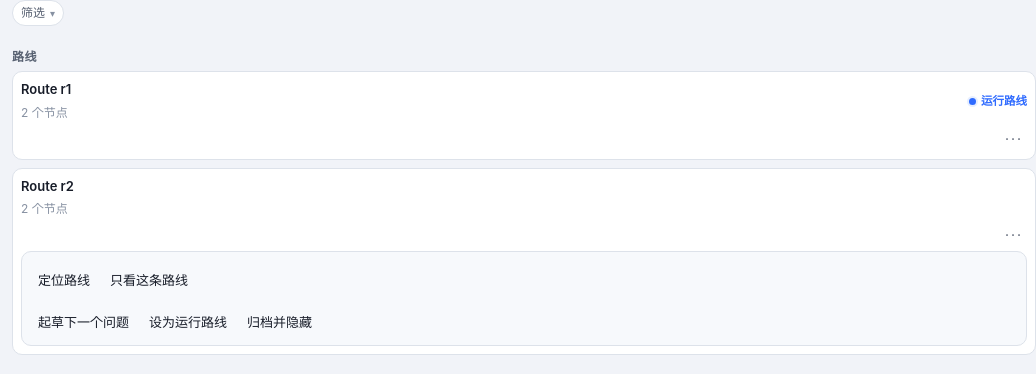
route sidebar › 只看这条路线 是开关：同一条路线再点一次即退出
The image size is (1036, 374).
Click the button with test id "isolate-route" at (149, 281), box [100,264,198,298]
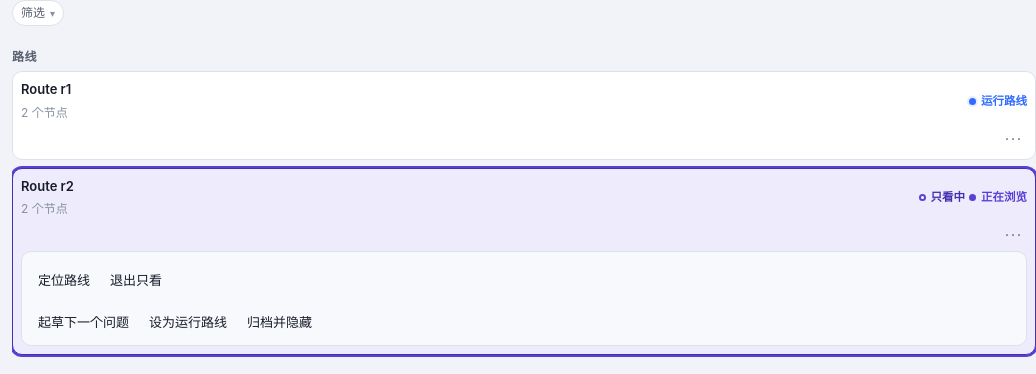
Check: the button with test id "isolate-route" reads "退出只看"
Click the button with test id "isolate-route" at (136, 281), box [100,264,172,298]
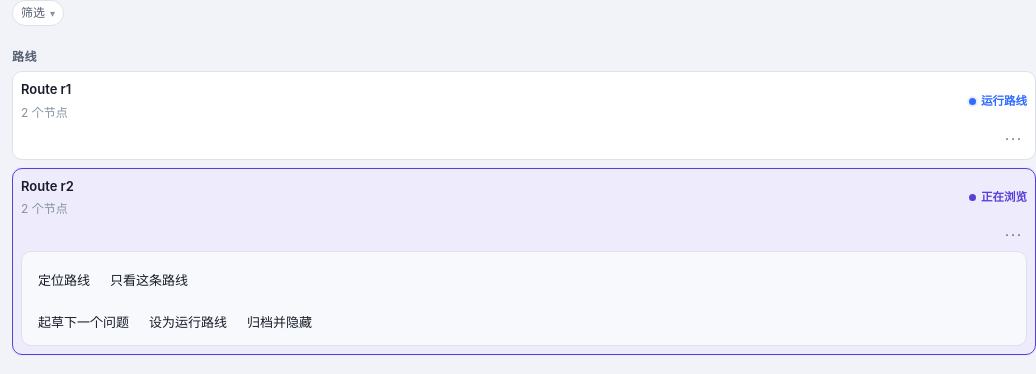
Check: the button with test id "isolate-route" reads "只看这条路线", box [100,264,198,298]
